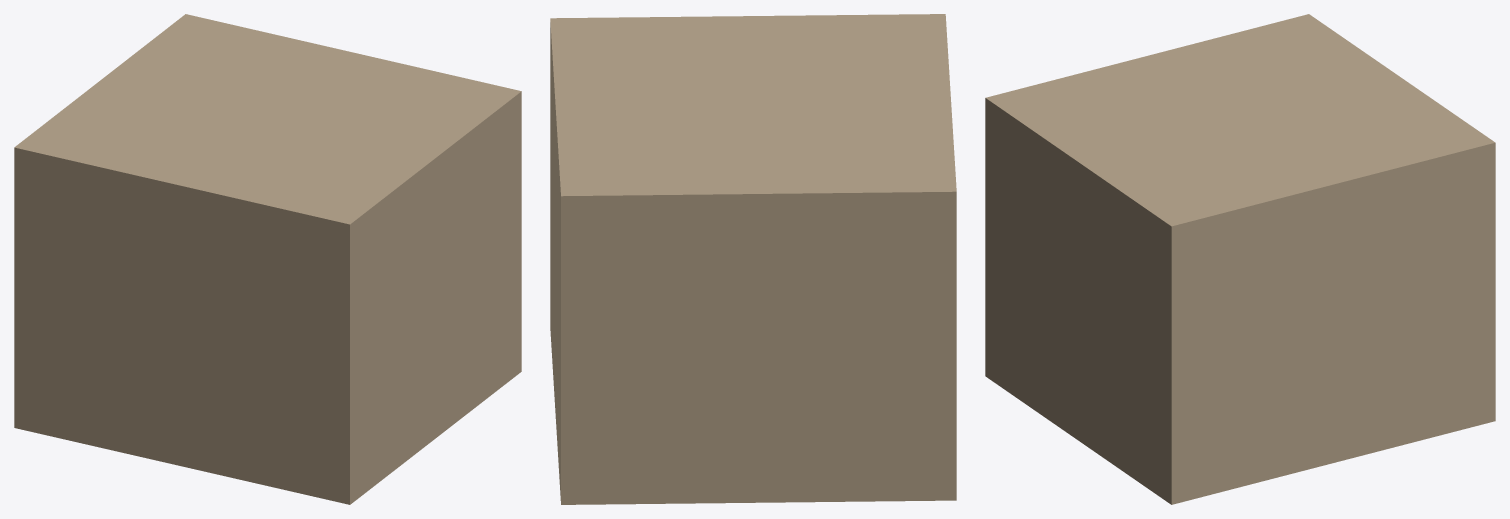
The model's file is bld_163484310.dae.
3 renders of one model, left to right at view 1: azimuth 30°, elevation 25°; view 2: azimuth 150°, elevation 25°; view 3: azimuth 270°, elevation 25°, orthographic. The views are drawn at different scales.
Visible parts, largest first — view 1: bld_163484310; view 2: bld_163484310; view 3: bld_163484310.
Boxes of the visible parts, left/top/right/bottom form: bld_163484310: left=14, top=14, right=521, bottom=504; bld_163484310: left=550, top=14, right=956, bottom=504; bld_163484310: left=985, top=14, right=1495, bottom=504.
Bounding box in the file's own units: 13.09 × 13.28 × 8.
